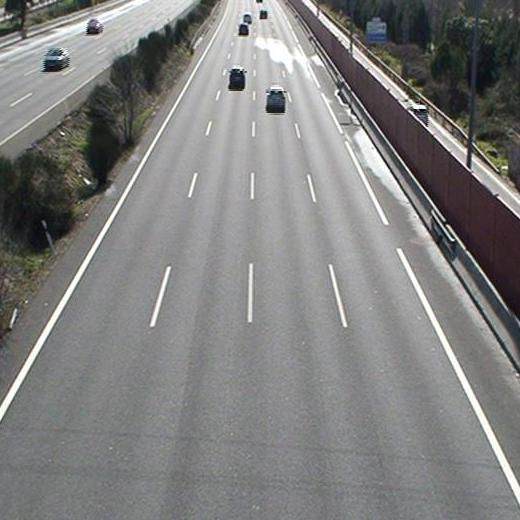car: (267, 85, 286, 111), (228, 67, 246, 90), (239, 23, 249, 36)
